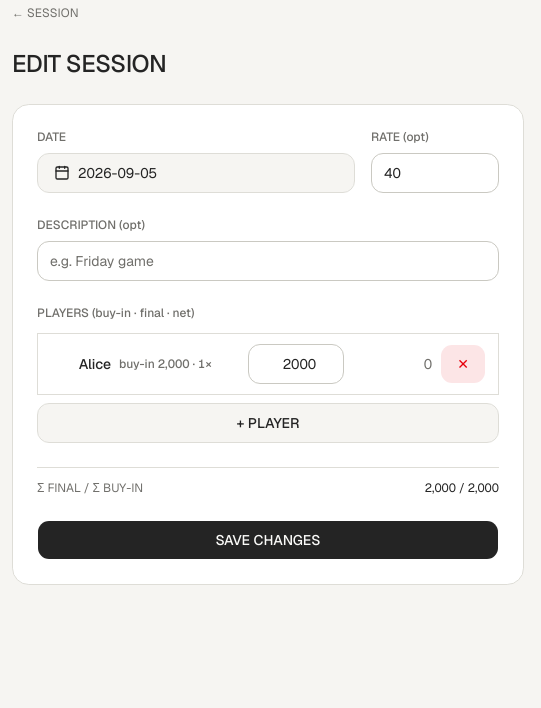
Scenario: real React session forms › rejects a cleared existing buy-in instead of deleting it
Click the button "Alice buy-in 2,000 · 1×" at (145, 364), box [50,344,240,384]
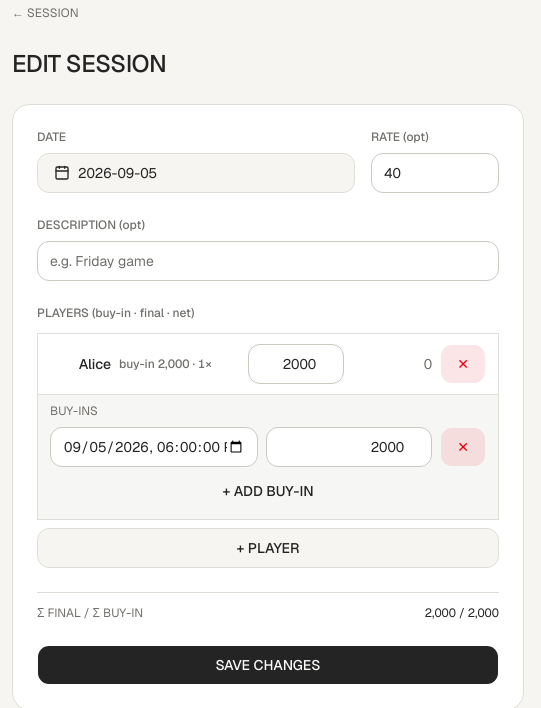
Clear the number field below "BUY-INS" at (349, 447), box [266,427,432,467]
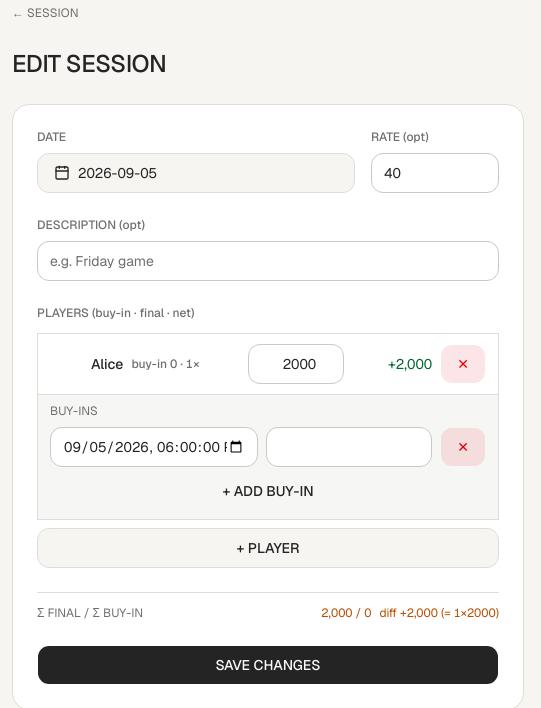
Click the button "SAVE CHANGES" at (268, 665), box [37,645,499,685]
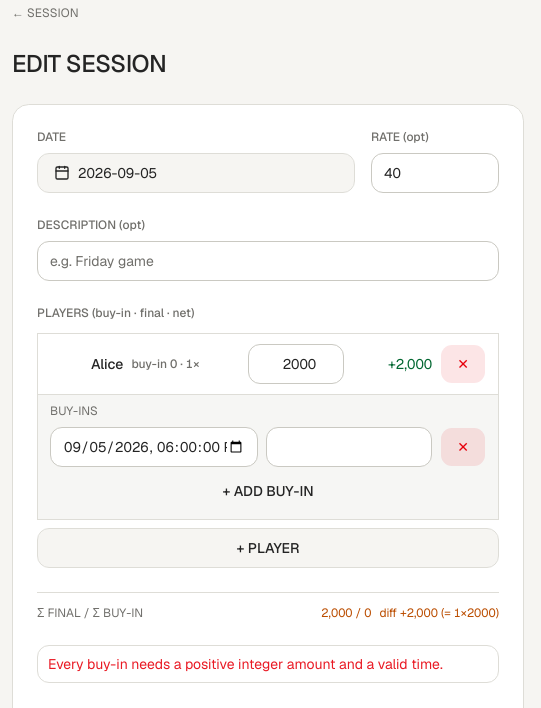
Expected: the text "Every buy-in needs" is shown, [48,655,443,673]
